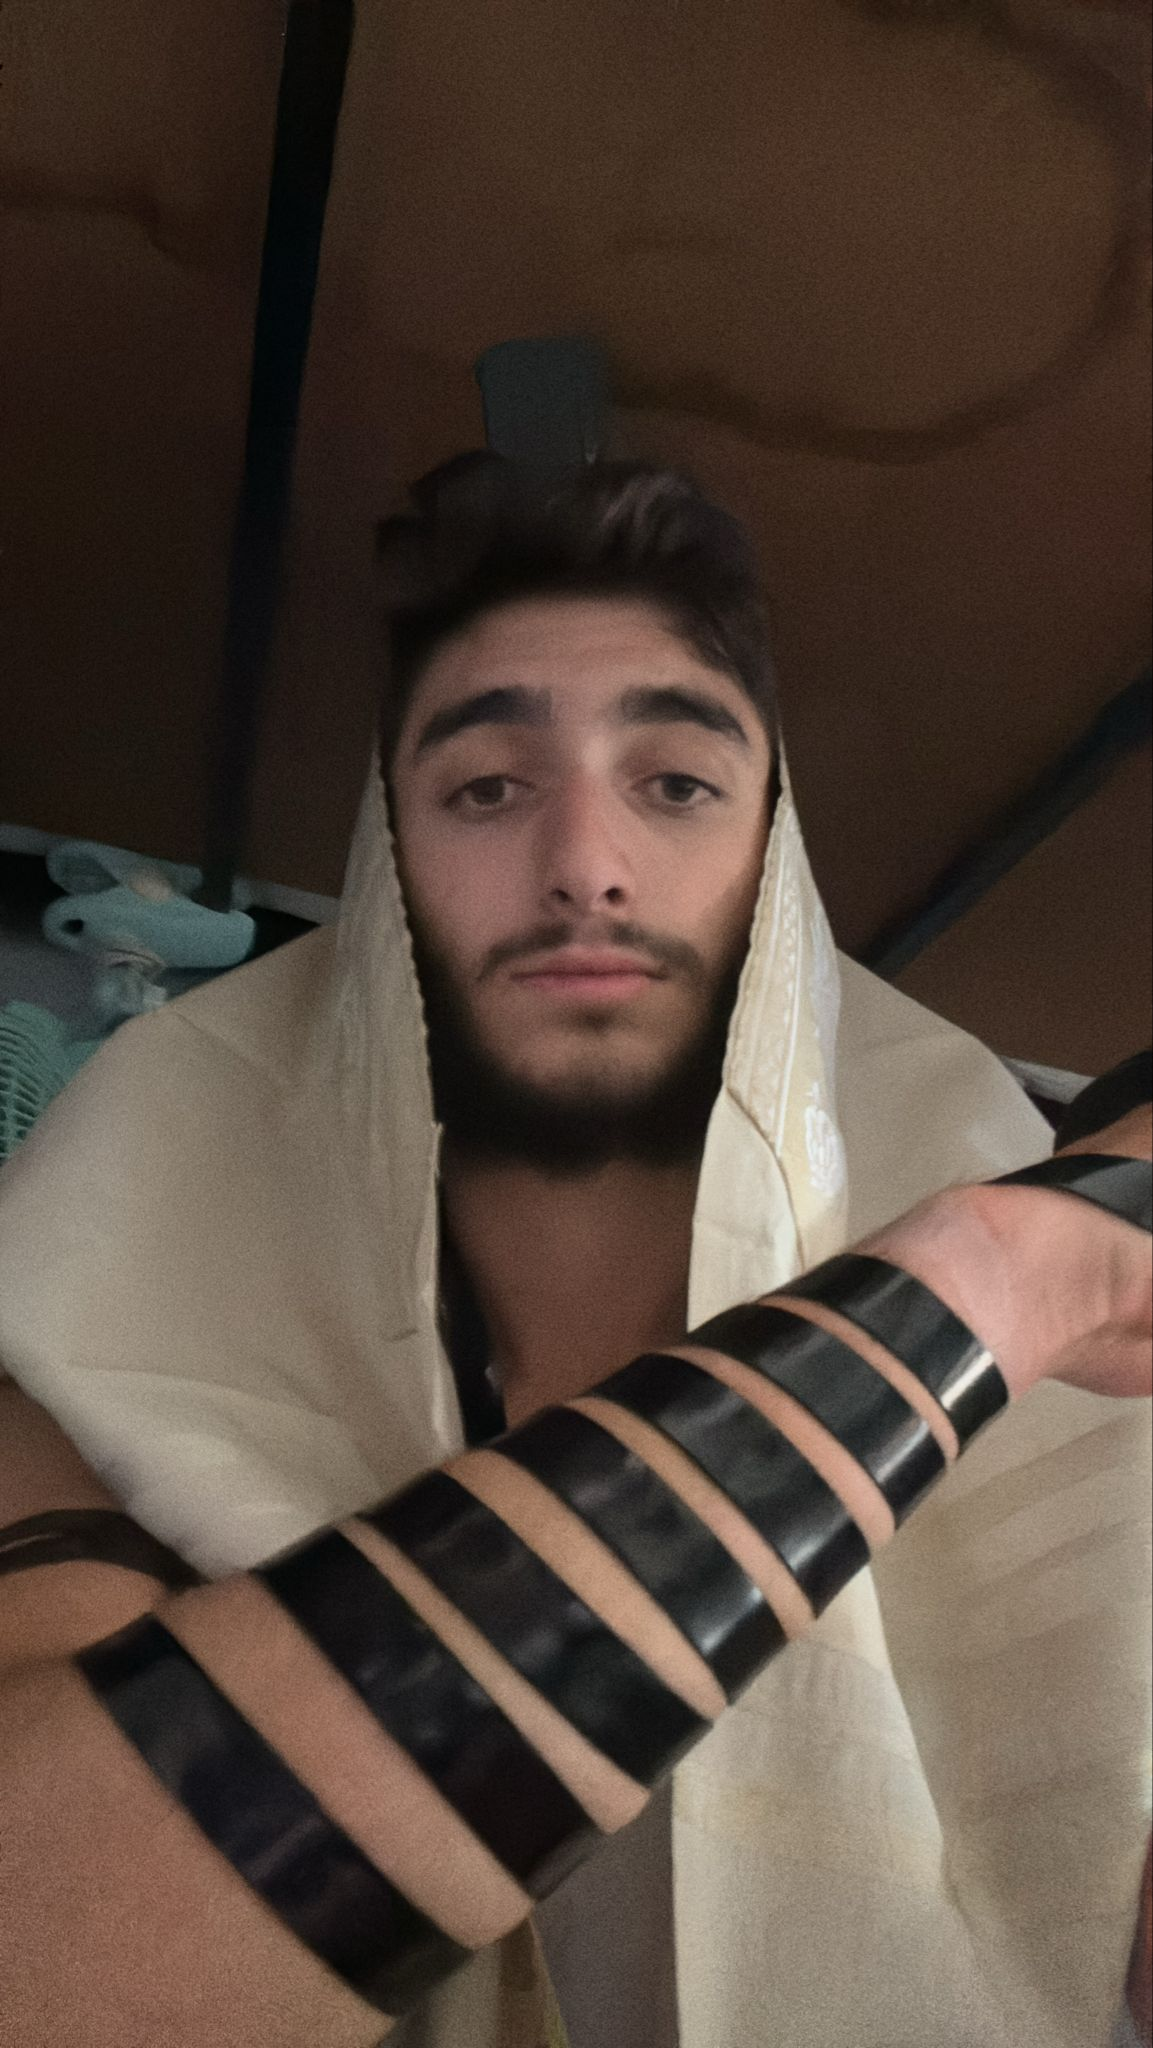tefillin: (479, 331, 614, 480)
